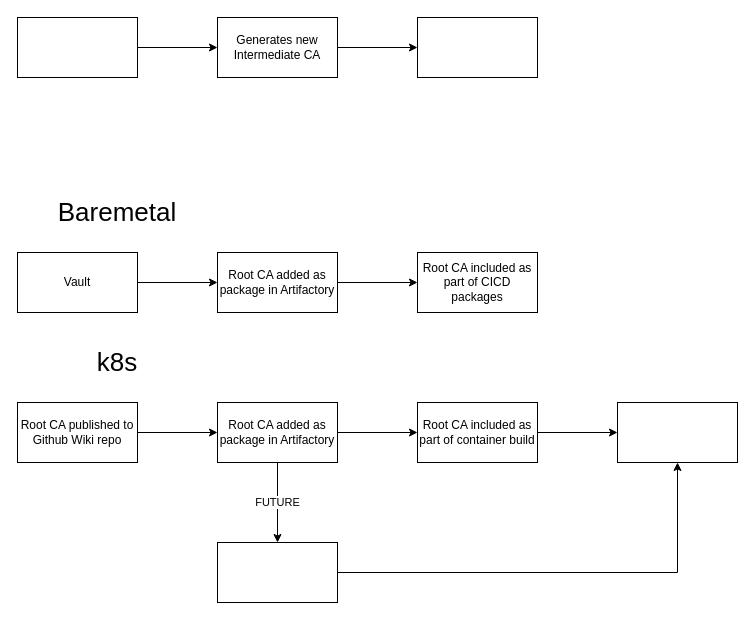
The diagram is 755 pixels wide and 620 high, and some of its shapes have lost their labels. Each missing label, with the box of its shape:
Containers pushed via Razee: (616, 402, 738, 462)
executes distribution process: (416, 16, 538, 78)
Scratch image rebuilt to include Root CA: (216, 542, 338, 602)
Vault Root PKI: (16, 16, 138, 78)
